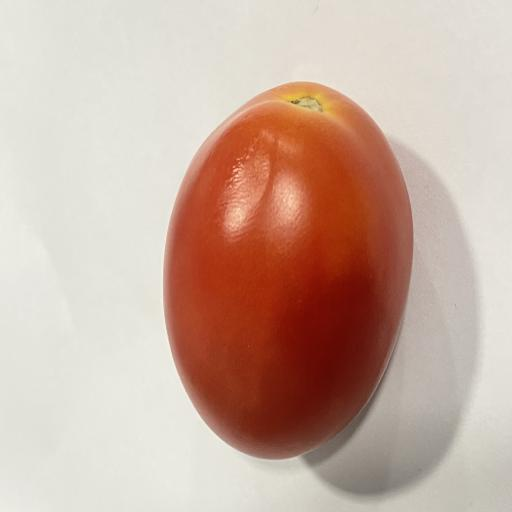overipe: (164, 82, 413, 458)
